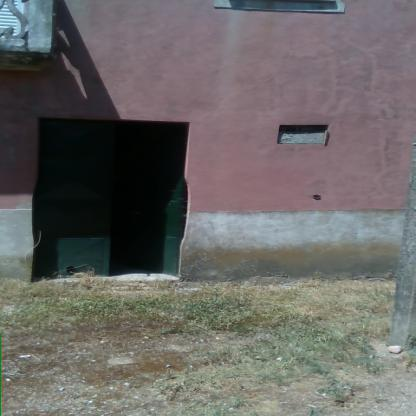open: (33, 104, 197, 284)
